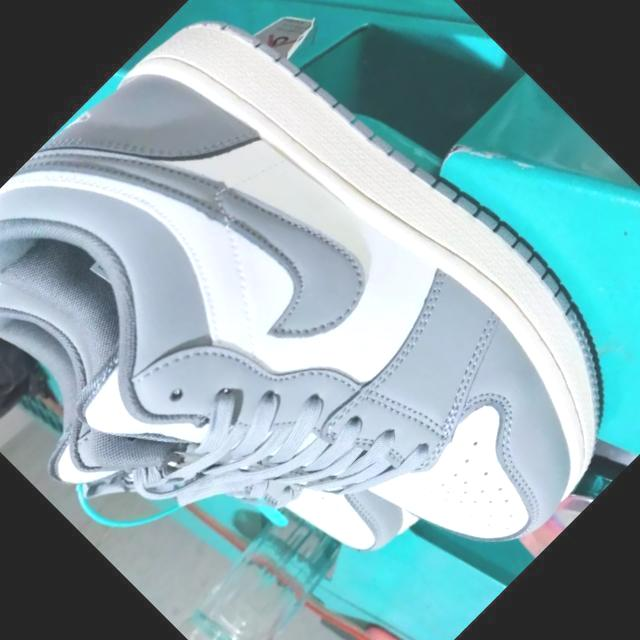nike_fake_jordan: (0, 0, 640, 640), (0, 155, 451, 640)
